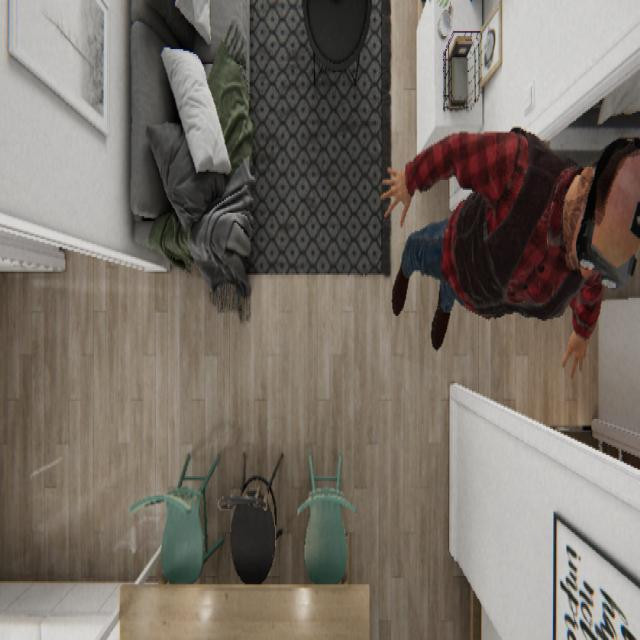Human: (380, 125, 638, 378)
